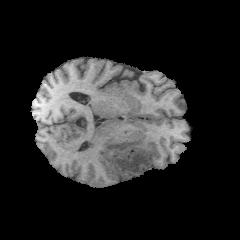glioma: (103, 137, 148, 172)
